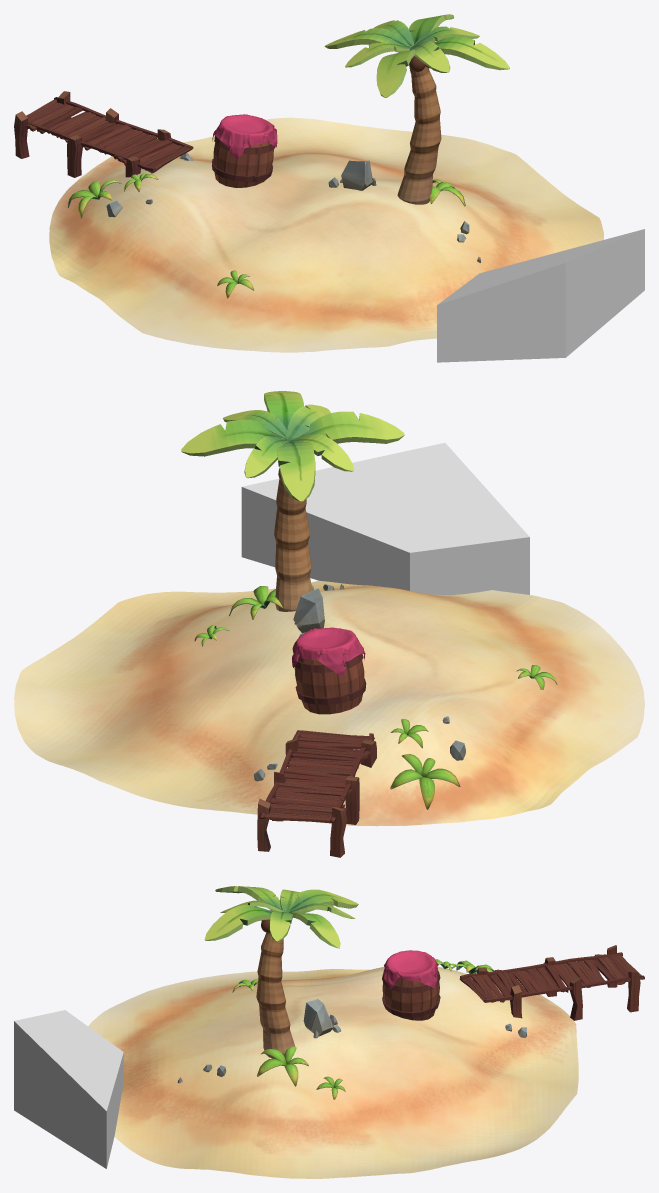
The model's file is full_island.glb.
The picture shows the model from 3 angles, top to bottom: view 1: azimuth 30°, elevation 25°; view 2: azimuth 150°, elevation 25°; view 3: azimuth 270°, elevation 25°; orthographic projection. The views are drawn at different scales.
Parts seen in each view (by area): view 1: Plane, Bottles_Container, Barrel, P_Tronc, P_Feuille.002, P_Feuille.004, P_Feuille.006, R_Rocher, P_Feuille.003, P_Feuille.005, F_Plante.002, Boat_Dock.002 (+4 smaller); view 2: Plane, Bottles_Container, Barrel, P_Tronc, P_Feuille.004, P_Feuille, P_Feuille.006, F_Plante.002, R_Rocher, P_Feuille.007, P_Feuille.005, P_Feuille.002 (+4 smaller); view 3: Plane, Bottles_Container, Barrel, P_Tronc, P_Feuille.002, P_Feuille.006, F_Plante, P_Feuille, R_Rocher, P_Feuille.004, Boat_Dock.007, P_Feuille.001 (+3 smaller).
Part boxes in pixels (x1,y1,x2,y2): Plane: (49,117,603,352); Bottles_Container: (437,229,644,362); Barrel: (212,114,277,187); P_Tronc: (397,66,441,204); P_Feuille.002: (434,36,509,70); P_Feuille.004: (376,49,415,97); P_Feuille.006: (324,28,409,52); R_Rocher: (341,160,372,190); P_Feuille.003: (409,40,450,72); P_Feuille.005: (345,42,410,67); F_Plante.002: (67,180,121,218); Boat_Dock.002: (67,135,82,177); Plane: (14,580,644,826); Bottles_Container: (241,443,529,594); Barrel: (292,627,366,714); P_Tronc: (274,468,312,611); P_Feuille.004: (302,411,404,443); P_Feuille: (181,419,279,456); P_Feuille.006: (276,441,315,501); F_Plante.002: (390,754,460,809); R_Rocher: (293,588,324,633); P_Feuille.007: (244,436,288,478); P_Feuille.005: (288,434,353,471); P_Feuille.002: (264,391,303,429); Plane: (88,967,578,1178); Bottles_Container: (14,1010,123,1168); Barrel: (382,950,440,1020); P_Tronc: (256,932,295,1058); P_Feuille.002: (204,905,272,940); P_Feuille.006: (289,889,358,913); F_Plante: (257,1046,308,1086); P_Feuille: (289,912,340,948); R_Rocher: (303,999,332,1036); P_Feuille.004: (215,886,281,911); Boat_Dock.007: (484,975,644,1002); P_Feuille.001: (269,911,292,941).
Size of what is drawn, in the model's own units: 17.82 by 8.4 by 22.56.
Materials: 58 (58 with a texture image).
